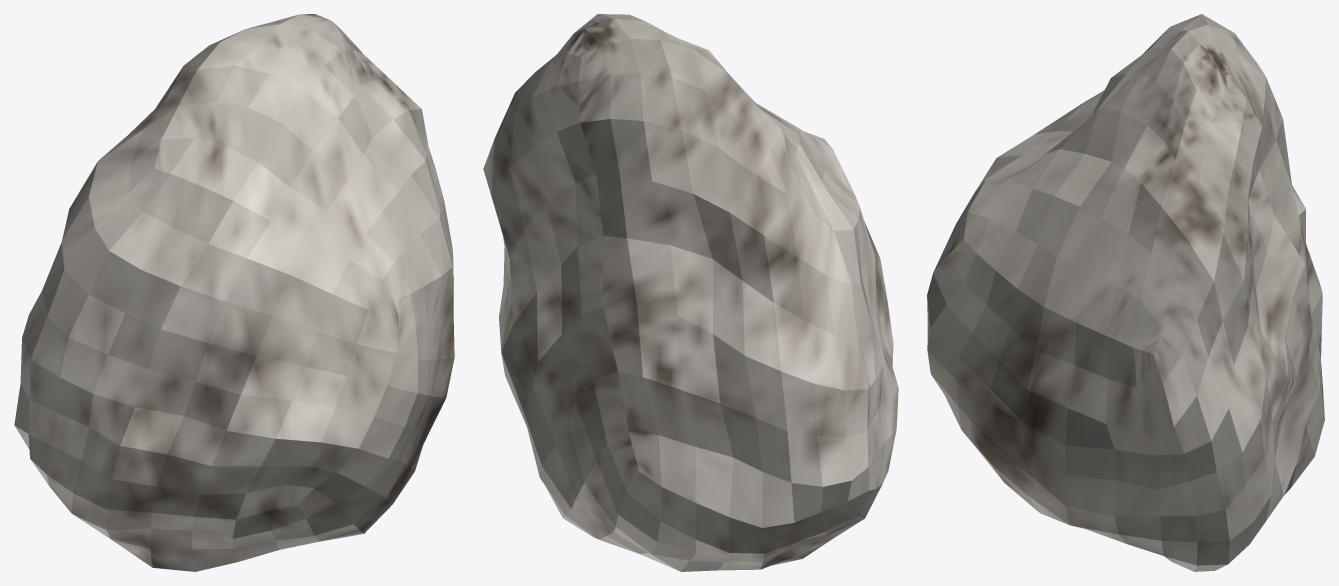
Rendered from Rock_bbelix.fbx.
3 renders of one model, left to right at view 1: azimuth 30°, elevation 25°; view 2: azimuth 150°, elevation 25°; view 3: azimuth 270°, elevation 25°, orthographic. The views are drawn at different scales.
Visible parts, largest first — view 1: Rock_bbelix; view 2: Rock_bbelix; view 3: Rock_bbelix.
Part boxes in pixels (left/top/right/bottom): Rock_bbelix: left=14, top=14, right=454, bottom=571; Rock_bbelix: left=483, top=14, right=898, bottom=571; Rock_bbelix: left=927, top=14, right=1324, bottom=571.
Size of what is drawn, in the model's own units: 753 by 944 by 650.
